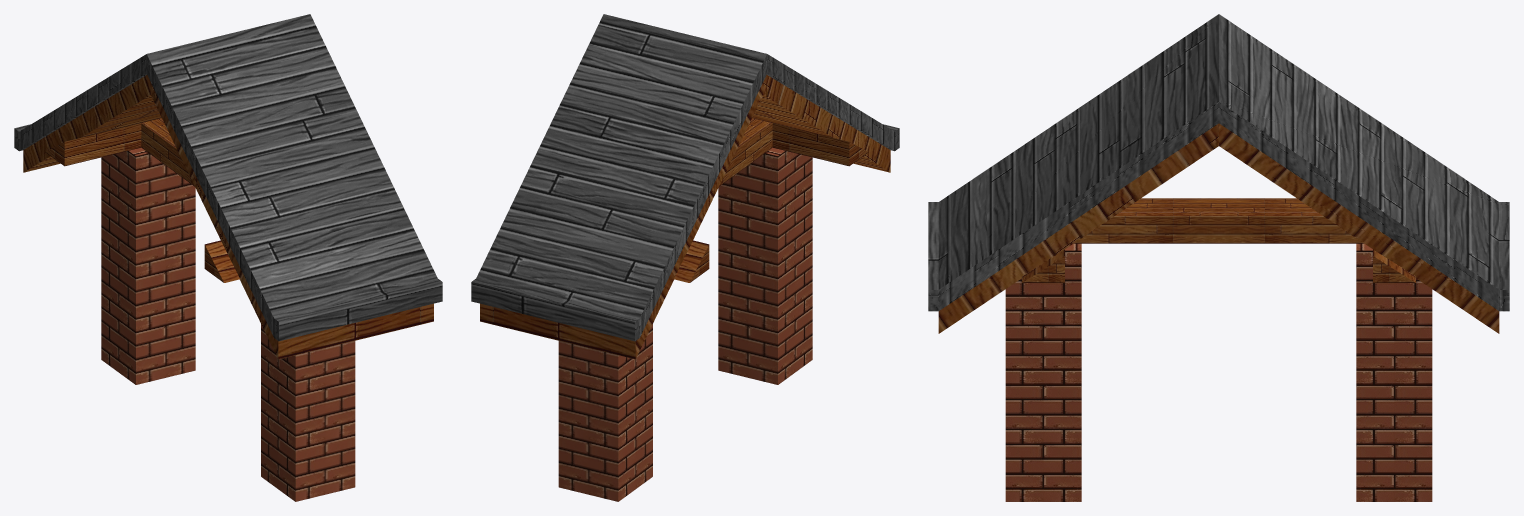
The model's file is plaza_gate.glb.
3 views of the same model, side by side, from view 1: azimuth 30°, elevation 25°; view 2: azimuth 150°, elevation 25°; view 3: azimuth 270°, elevation 25° (orthographic). The views are drawn at different scales.
Parts seen in each view (by area): view 1: Gate; view 2: Gate; view 3: Gate.
Boxes of the visible parts, left/top/right/bottom form: Gate: left=14, top=14, right=442, bottom=501; Gate: left=471, top=14, right=899, bottom=501; Gate: left=928, top=14, right=1509, bottom=501.
Size of the model in its own units: 4.12 by 8.34 by 10.26.
Materials: 3 (3 with a texture image).
